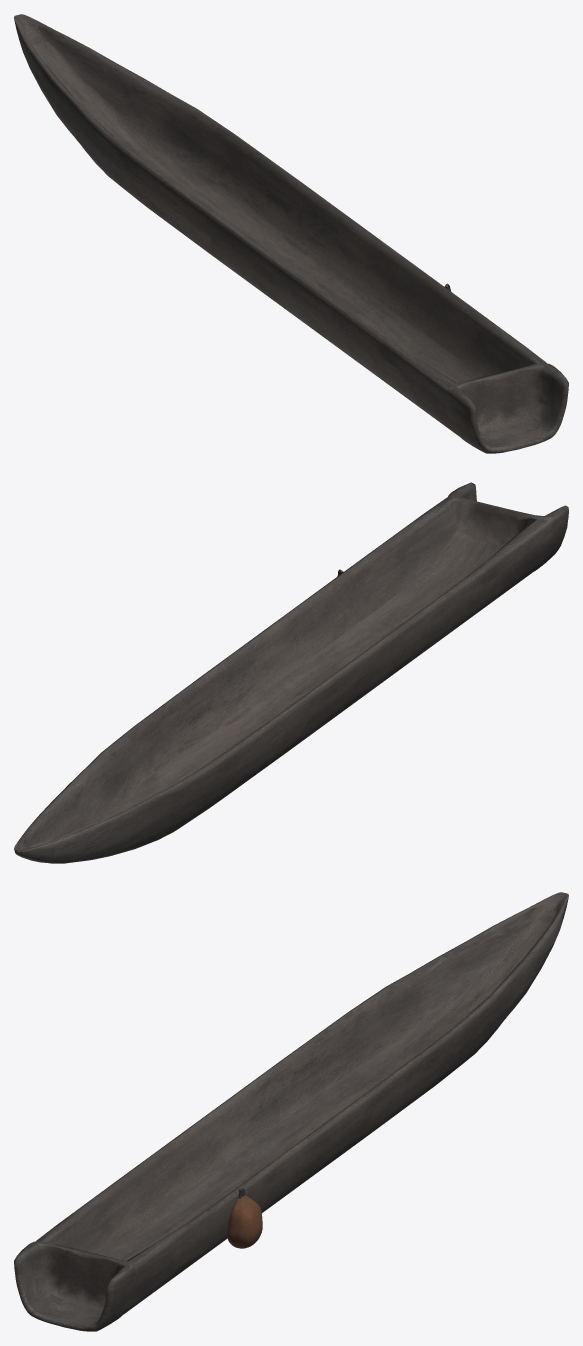
The model's file is Boat1.fbx.
3 renders of one model, top to bottom at view 1: azimuth 30°, elevation 25°; view 2: azimuth 150°, elevation 25°; view 3: azimuth 330°, elevation 25°, orthographic.
Visible parts, largest first — view 1: boatmesh; view 2: boatmesh; view 3: boatmesh, skinbagmesh.
Part boxes in pixels (bbox=[...]): boatmesh: bbox=[14, 14, 568, 453]; boatmesh: bbox=[14, 482, 568, 863]; boatmesh: bbox=[14, 892, 568, 1331]; skinbagmesh: bbox=[227, 1188, 262, 1248].
Bounding box in the file's own units: 2.07 × 1.11 × 14.64.
2 materials, 2 textured.
